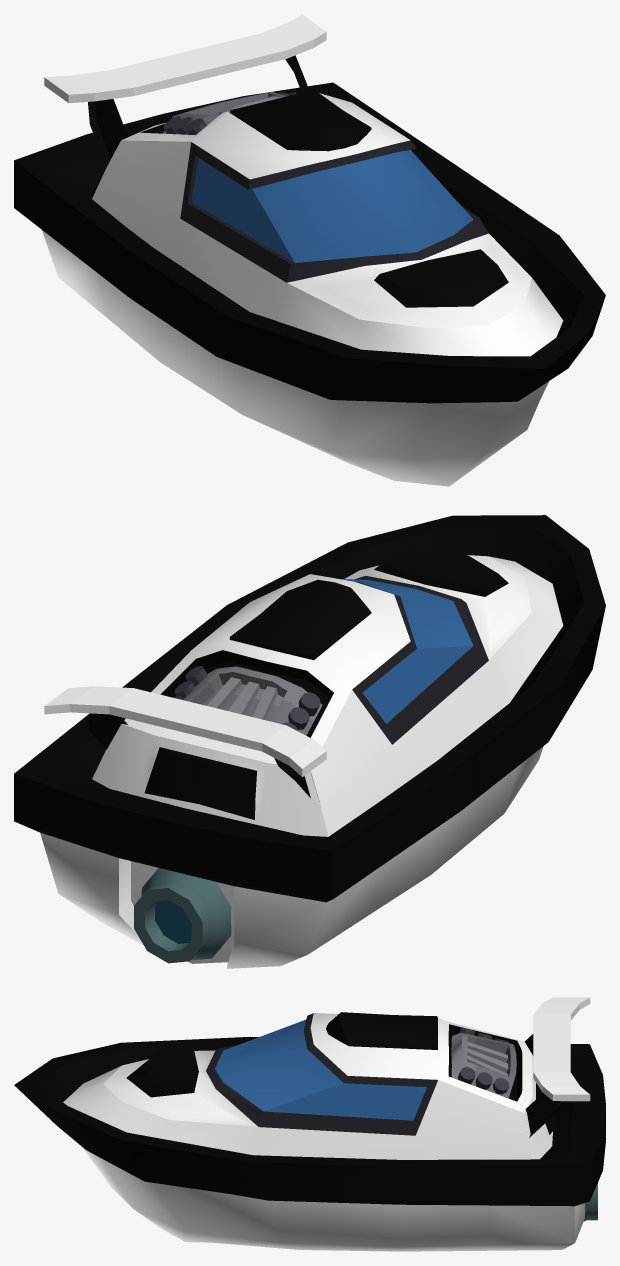
The model's file is Racing_Boat_Chub.fbx.
3 views of the same model, one above another, from view 1: azimuth 30°, elevation 25°; view 2: azimuth 150°, elevation 25°; view 3: azimuth 270°, elevation 25° (orthographic). The views are drawn at different scales.
Visible parts, largest first — view 1: Boat; view 2: Boat, Antrieb, MotorDeco; view 3: Boat, MotorDeco.
Part boxes in pixels (x1,y1,x2,y2): Boat: (14,14,605,486); Boat: (14,515,605,968); Antrieb: (134,868,231,963); MotorDeco: (207,677,277,719); Boat: (14,997,605,1251); MotorDeco: (467,1041,508,1075).
Bounding box in the file's own units: 80.97 × 65.65 × 161.
